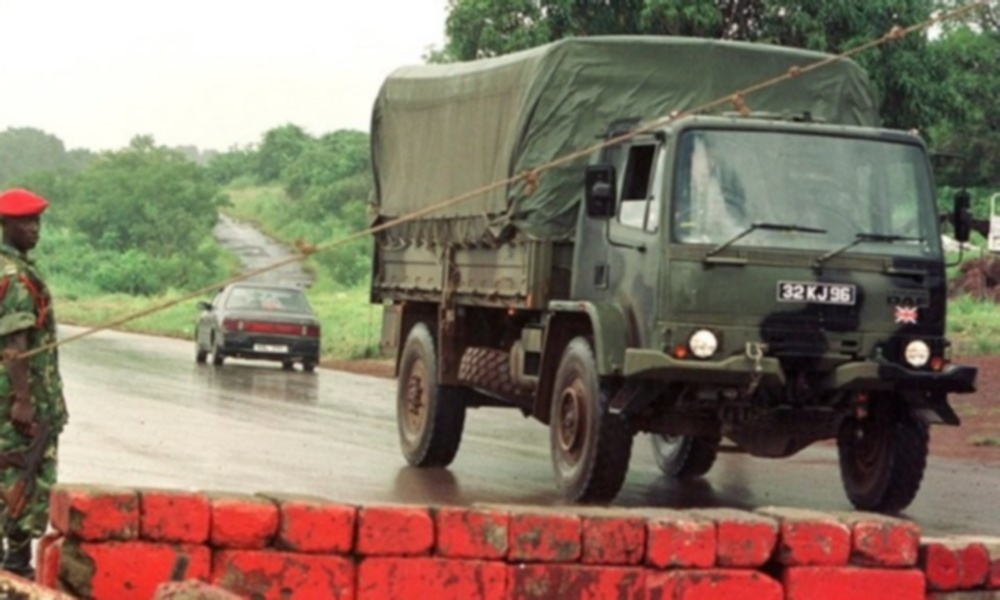license_plate: (775, 278, 860, 312)
